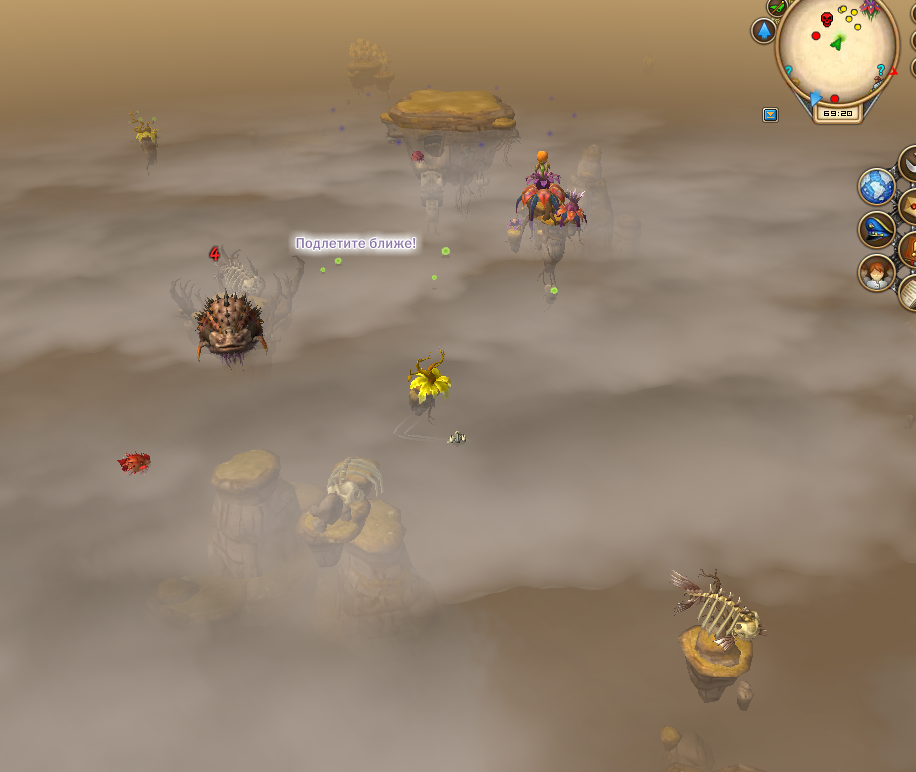dandelion-empty: (404, 346, 456, 424)
dandelion-full: (126, 110, 166, 169)
fluff: (438, 242, 453, 261), (548, 286, 560, 299), (331, 255, 343, 267), (428, 270, 439, 283), (317, 265, 328, 277)
